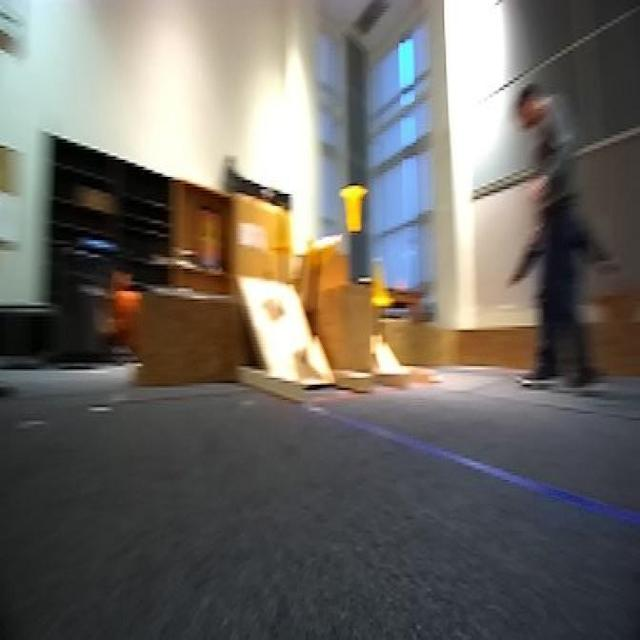frc_cone: (265, 199, 296, 261), (341, 178, 369, 236), (307, 226, 343, 268), (370, 256, 390, 306)
